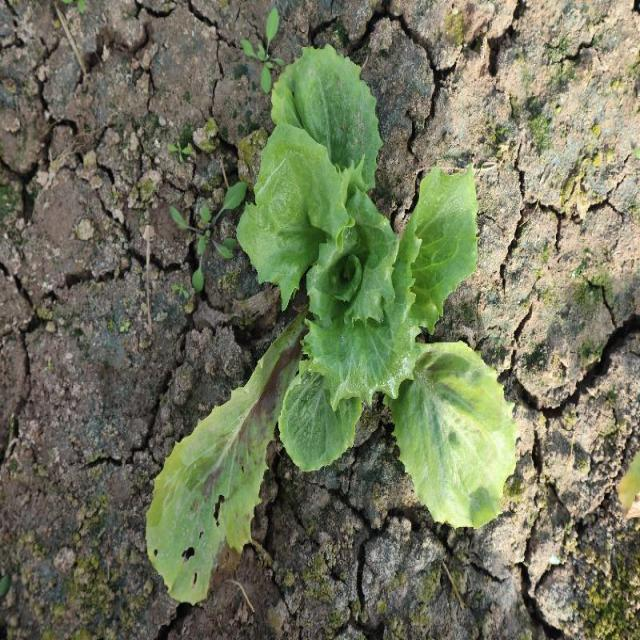crop: (143, 43, 518, 606)
